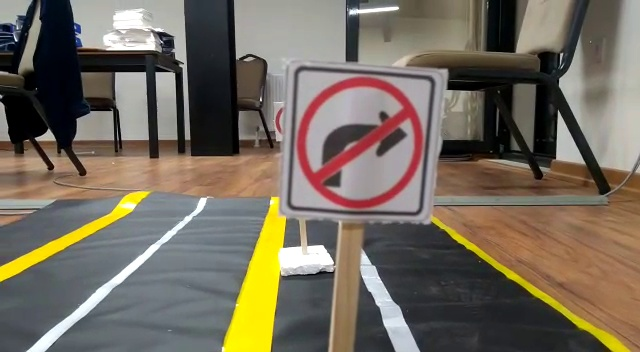saga_donulmez: (291, 71, 422, 215)
